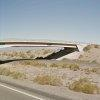Bridge: (2, 30, 83, 60)
